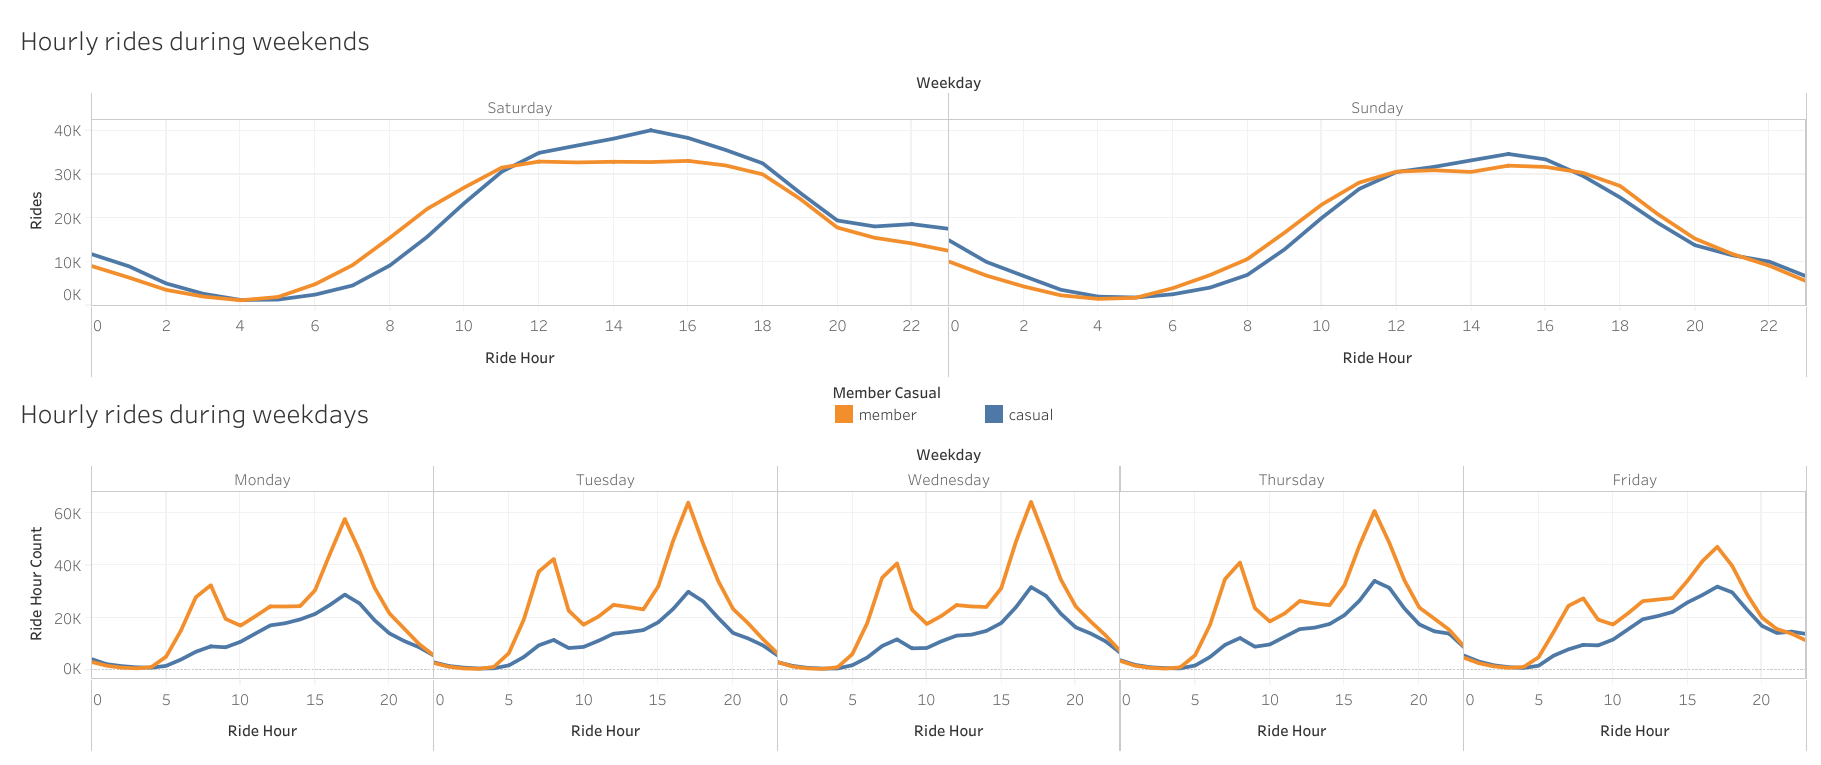

This screenshot's page, from the dashboard's own definition file:
{"tool":"tableau","page":{"name":"Dashboard 1","canvas":[1000,1000],"units":"permille","ordinal":0},"visuals":[{"type":"worksheet","title":"Sheet 1","mark":"Automatic","rows":["total"],"cols":["member_casual"],"box":[4.8,9.3,495.2,981.4]},{"type":"worksheet","title":"Sheet 2","mark":"Automatic","rows":["total"],"cols":["member_casual"],"box":[500,9.3,495.2,981.4]}]}

Visuals, with their boxes on the dashboard's canvas, which has no fixed pixel size, in thousandths of its width and height (x1, y1, x2, y2). These are canvas units, not pixel positions in the 1821x765 screenshot, which may show the page scaled, cropped or inside an application window:
"Sheet 1" worksheet: (x1=5, y1=9, x2=500, y2=991)
"Sheet 2" worksheet: (x1=500, y1=9, x2=995, y2=991)
